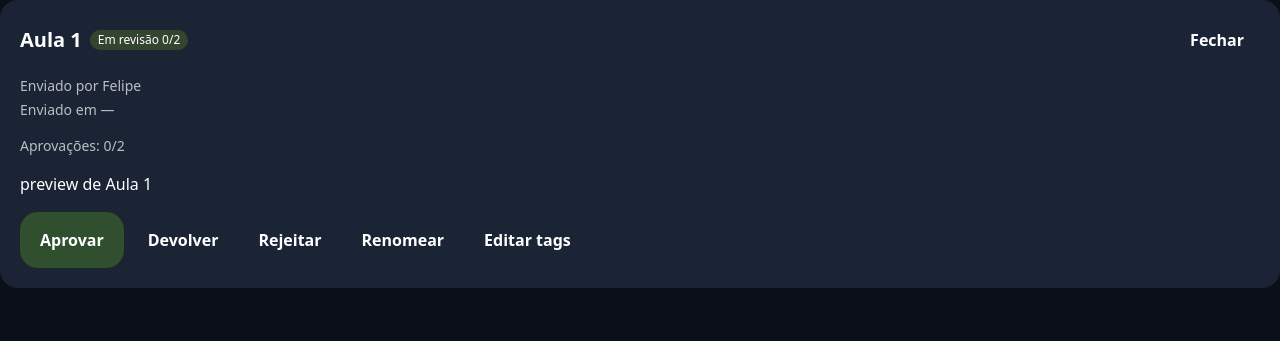
Test: ItemDetail — votos de publicação › falha ao votar mostra erro e reabilita
Click the button "Aprovar" at {"x": 72, "y": 240}, box [20,212,124,268]
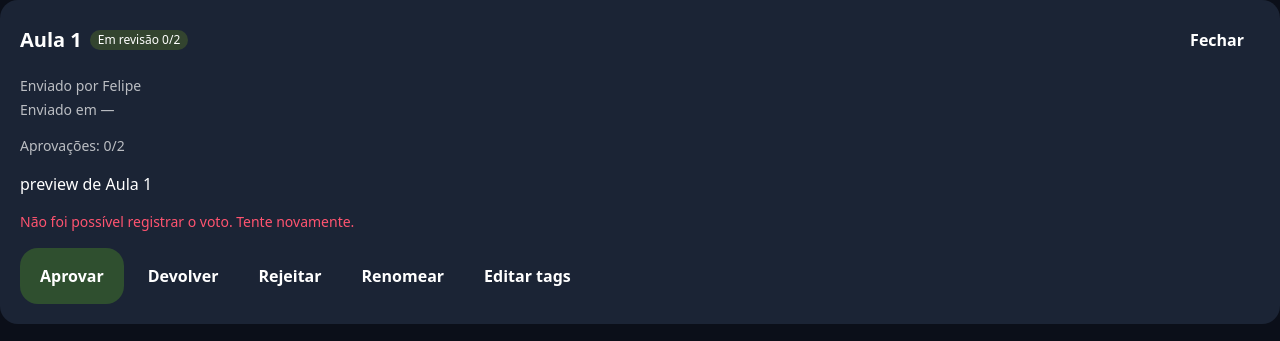
Expected: the button "Aprovar" is enabled, [20,248,124,304]
Result: the message reads "Não foi possível registrar o voto. Tente novamente." at [20,212,354,231]
